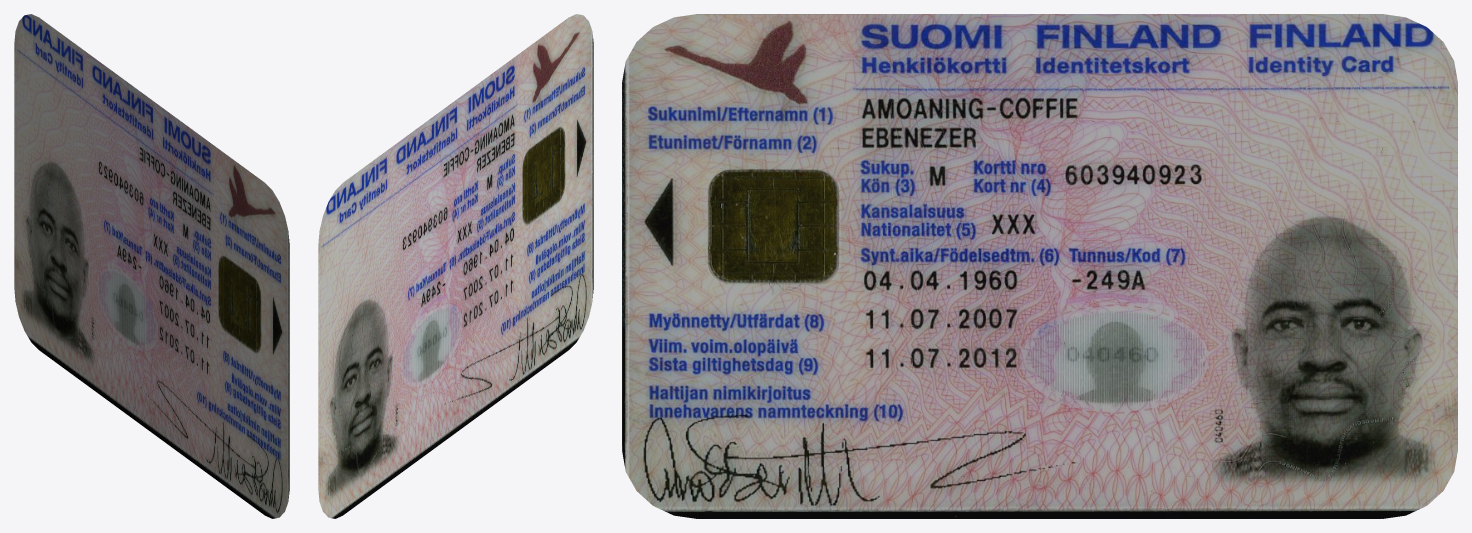
Rendered from IDCARD.fbx.
3 renders of one model, left to right at view 1: azimuth 30°, elevation 25°; view 2: azimuth 150°, elevation 25°; view 3: azimuth 270°, elevation 25°, orthographic. The views are drawn at different scales.
Visible parts, largest first — view 1: Plane; view 2: Plane; view 3: Plane.
Boxes of the visible parts, x1,y1,x2,y2 form: Plane: [14, 14, 289, 518]; Plane: [318, 14, 593, 518]; Plane: [622, 14, 1457, 518].
Bounding box in the file's own units: 3.89e-05 × 200 × 300.
Materials: 1 (1 with a texture image).
